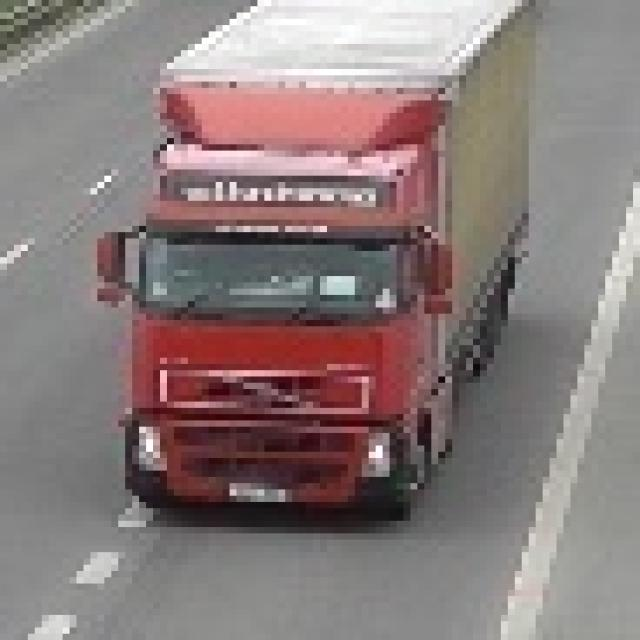TRUCK: (96, 0, 536, 519)
